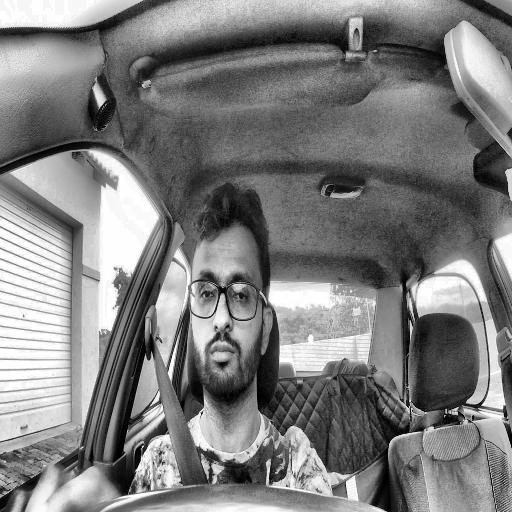awake: (187, 183, 273, 405)
